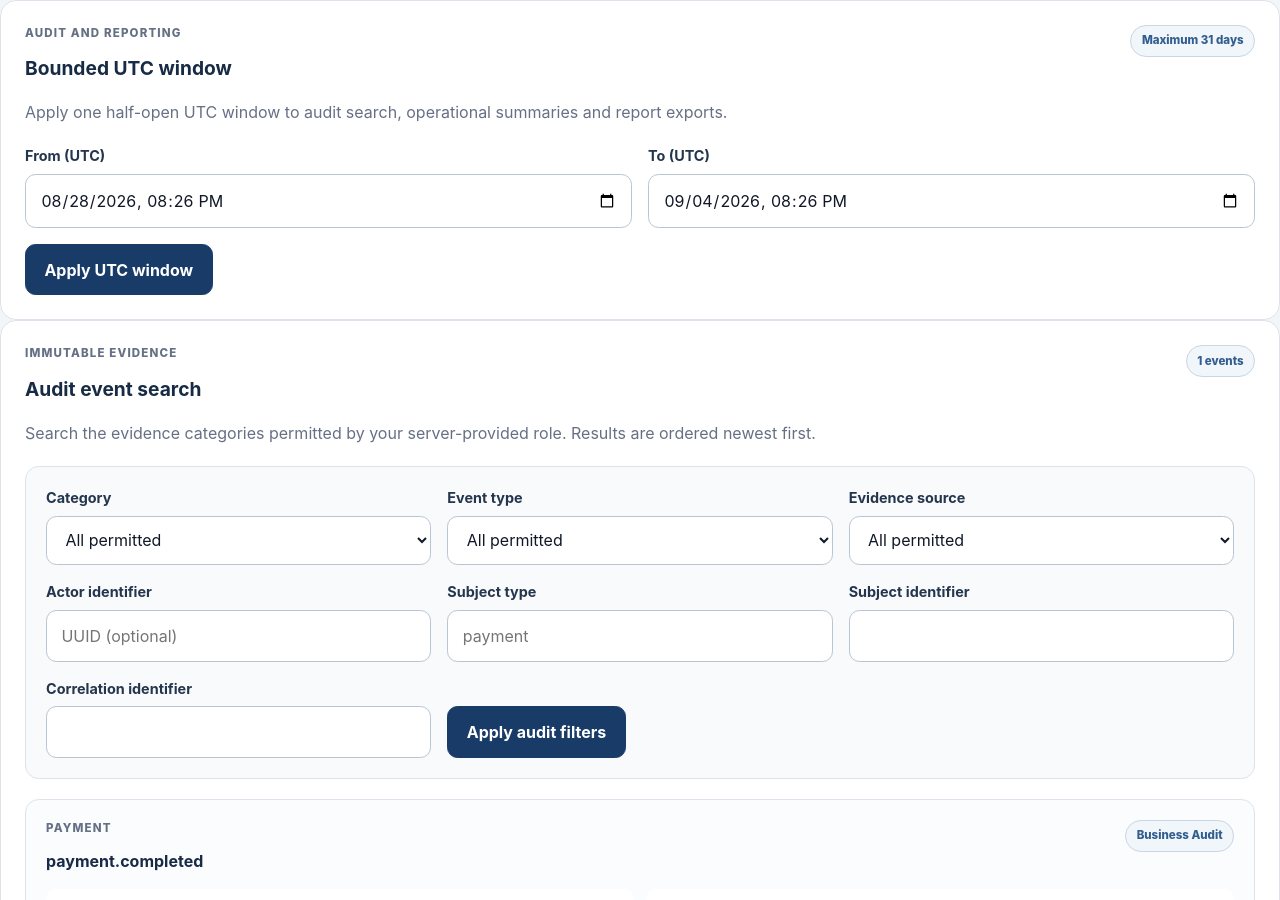
Test case: AuditReportingWorkspace › rejects an overlong window before applying it
Replace the text in the field labelled "From (UTC)" with "2026-06-01T00:00" at (328, 201), box [25, 174, 632, 228]
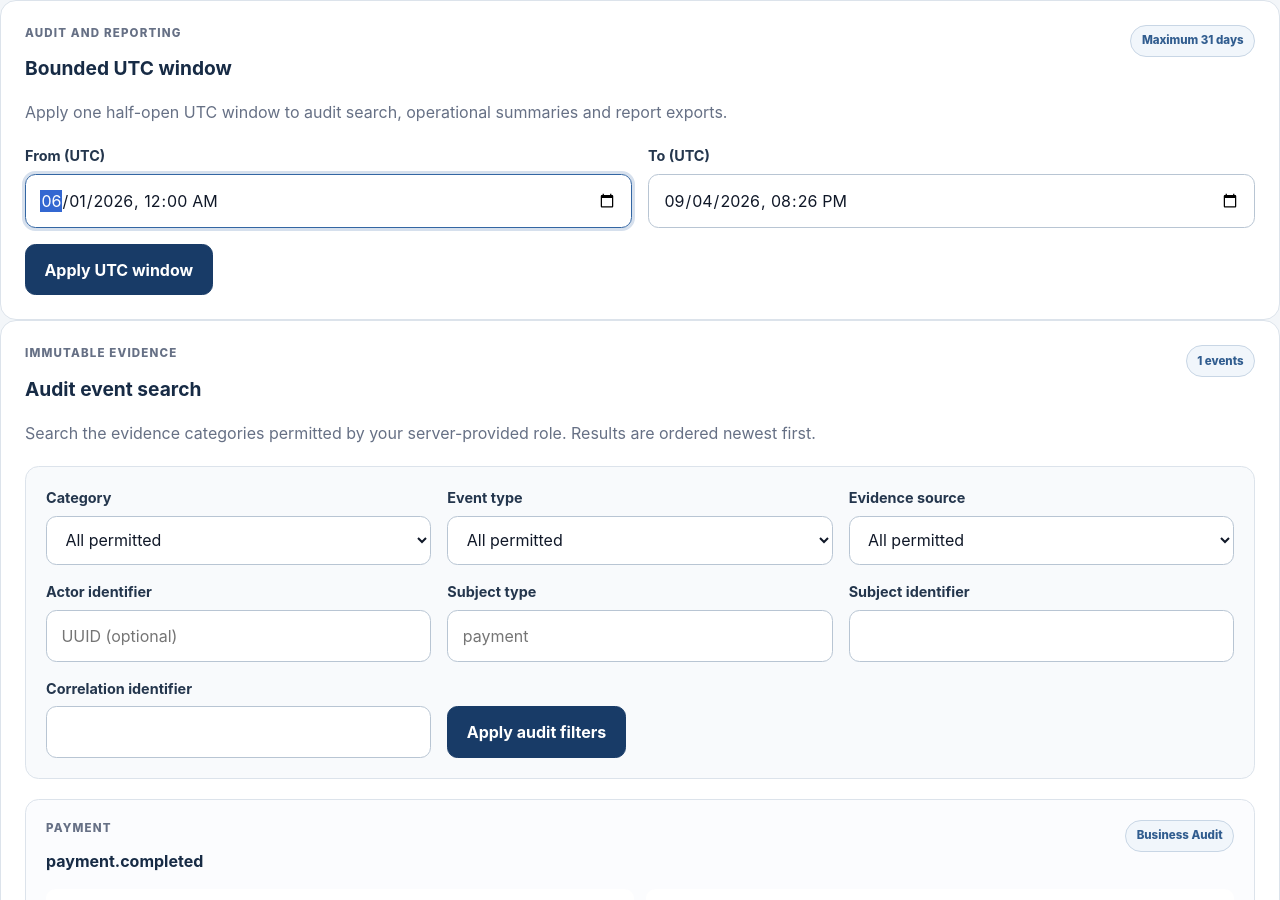
Replace the text in the field labelled "To (UTC)" with "2026-07-25T00:00" at (952, 201), box [648, 174, 1255, 228]
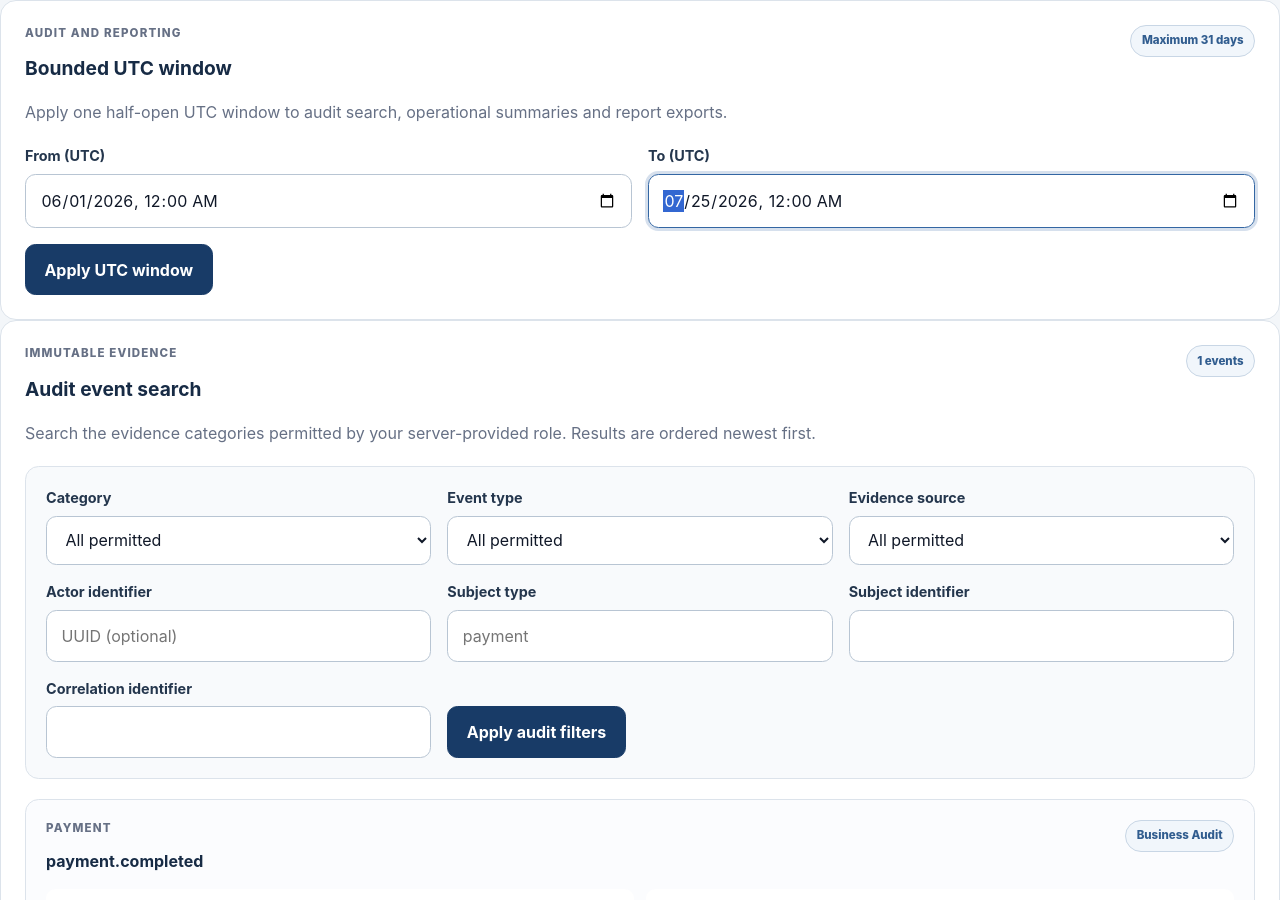
Click the button "Apply UTC window".
click(119, 270)  # box [25, 244, 212, 295]
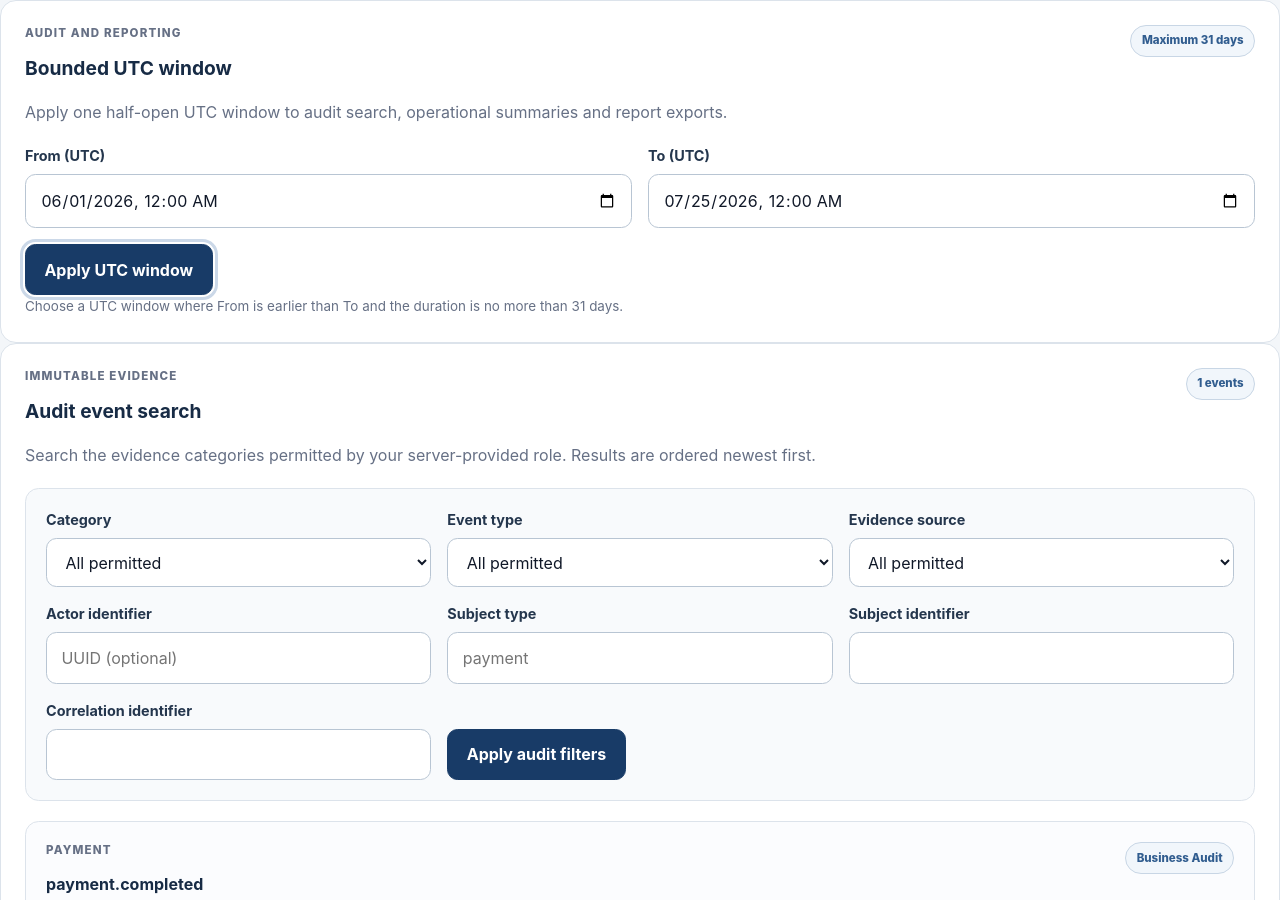
expect the message shows "no more than 31 days": met, box [25, 298, 623, 314]
